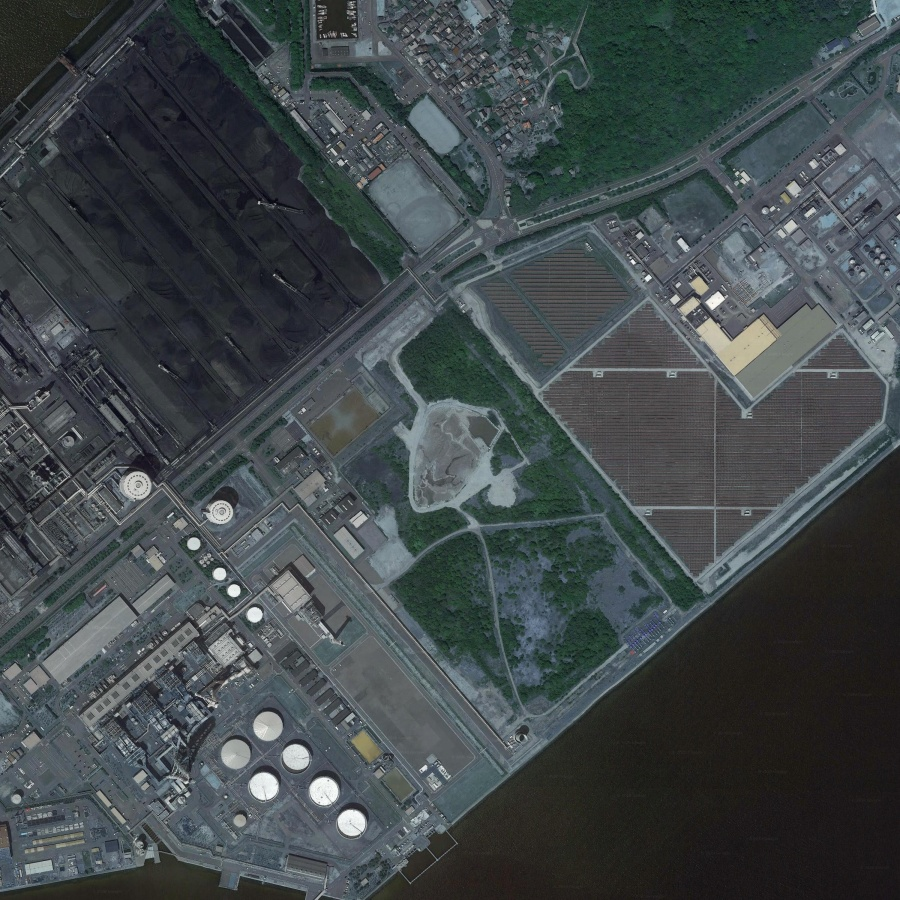PowerPlant: (10, 18, 397, 412), (88, 458, 389, 837)
